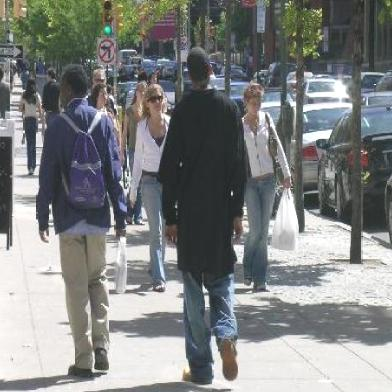ped: (159, 48, 252, 383), (40, 66, 128, 376), (244, 85, 294, 291), (132, 84, 172, 288), (21, 78, 43, 173)
